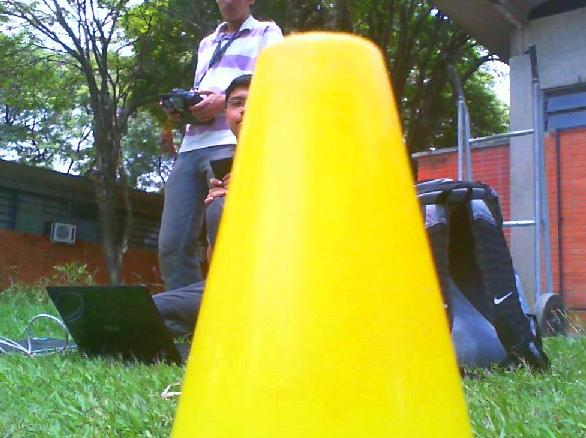0 cone: (168, 31, 477, 438)
